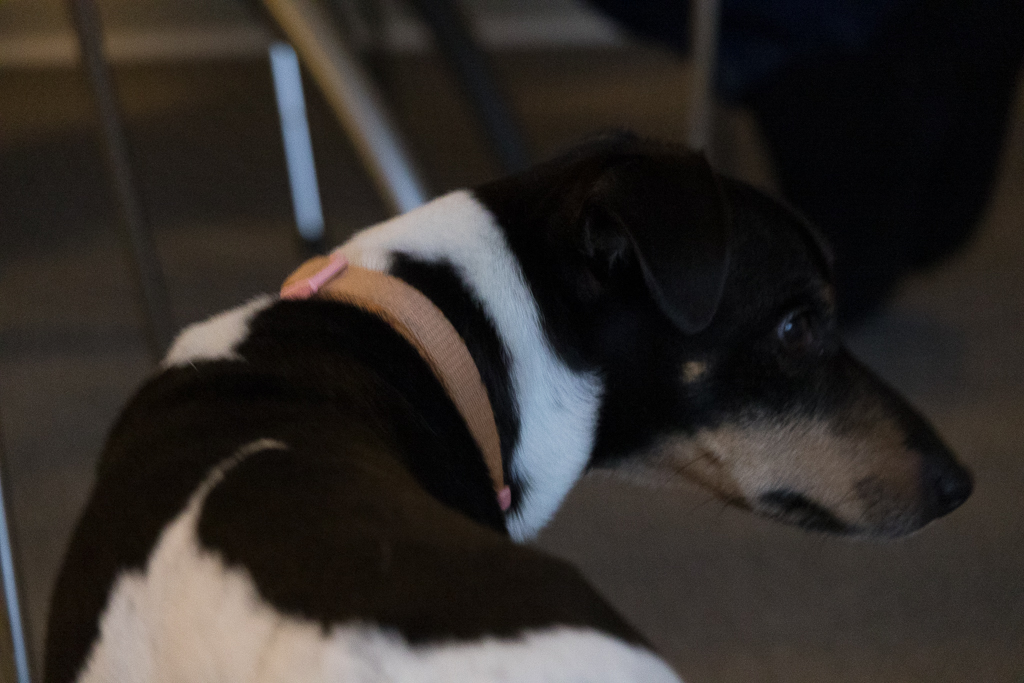Dog: (29, 102, 991, 683)
Humanoid: (563, 0, 1024, 343)
